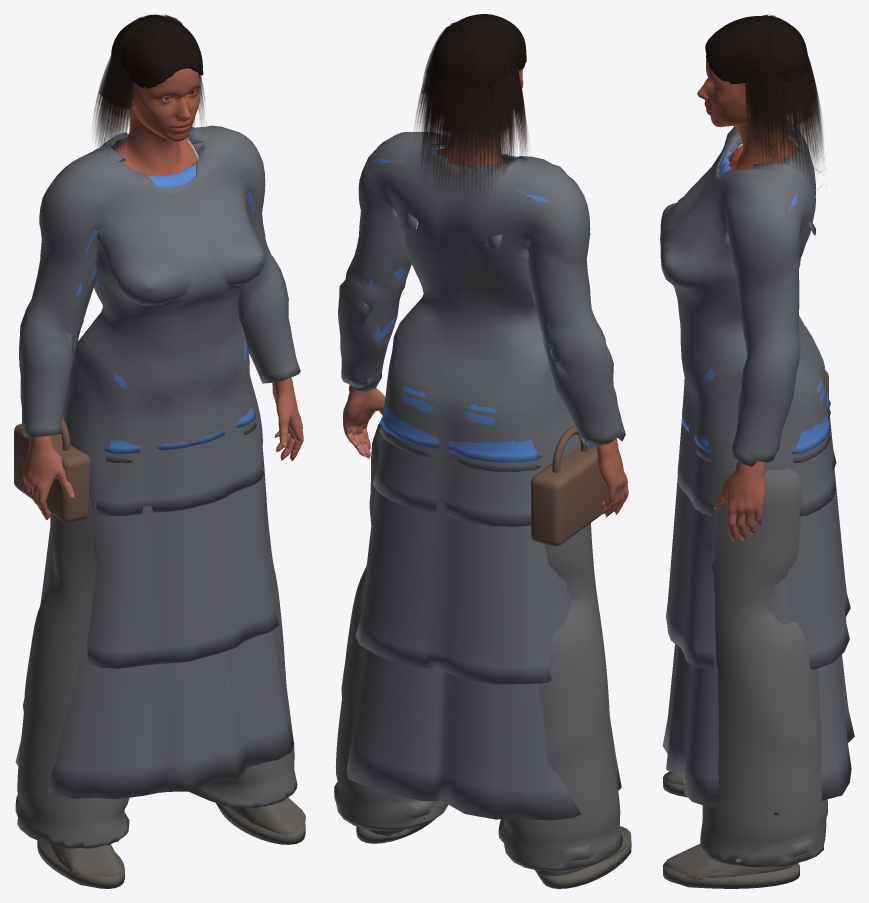
The model's file is woman.glb.
3 renders of one model, left to right at view 1: azimuth 30°, elevation 25°; view 2: azimuth 150°, elevation 25°; view 3: azimuth 270°, elevation 25°, orthographic. The views are drawn at different scales.
Visible parts, largest first — view 1: garment_blazer, garment_coat, garment_dress, garment_baggy_jeans, Human_Body, Hair_Editorial, garment_boots, garment_bag, garment_hoodie; view 2: garment_blazer, garment_coat, garment_dress, garment_baggy_jeans, Hair_Editorial, garment_bag, Human_Body, garment_hoodie, garment_boots, garment_jacket; view 3: garment_blazer, garment_baggy_jeans, garment_coat, Hair_Editorial, garment_dress, Human_Body, garment_boots, garment_hoodie.
Boxes of the visible parts, x1,y1,x2,y2 form: garment_blazer: (19, 125, 300, 515); garment_coat: (34, 324, 278, 668); garment_dress: (15, 135, 294, 798); garment_baggy_jeans: (15, 447, 297, 848); Human_Body: (23, 68, 303, 520); Hair_Editorial: (93, 14, 205, 153); garment_boots: (37, 797, 305, 888); garment_bag: (14, 418, 90, 522); garment_hoodie: (62, 130, 280, 453); garment_blazer: (338, 132, 625, 526); garment_coat: (355, 312, 580, 684); garment_dress: (347, 145, 621, 820); garment_baggy_jeans: (334, 423, 622, 871); Hair_Editorial: (414, 14, 527, 215); garment_bag: (531, 426, 608, 546); Human_Body: (343, 69, 628, 517); garment_hoodie: (350, 139, 598, 462); garment_boots: (356, 819, 631, 888); garment_jacket: (379, 427, 540, 471); garment_blazer: (660, 121, 836, 516); garment_baggy_jeans: (700, 468, 827, 867); garment_coat: (666, 343, 850, 669); Hair_Editorial: (705, 14, 824, 188); garment_dress: (662, 133, 854, 814); Human_Body: (697, 59, 797, 541); garment_boots: (663, 771, 799, 888); garment_hoodie: (682, 128, 830, 455).
Size of the model in its own units: 0.621 by 1.77 by 0.3829.
Materials: 25 (9 with a texture image).
